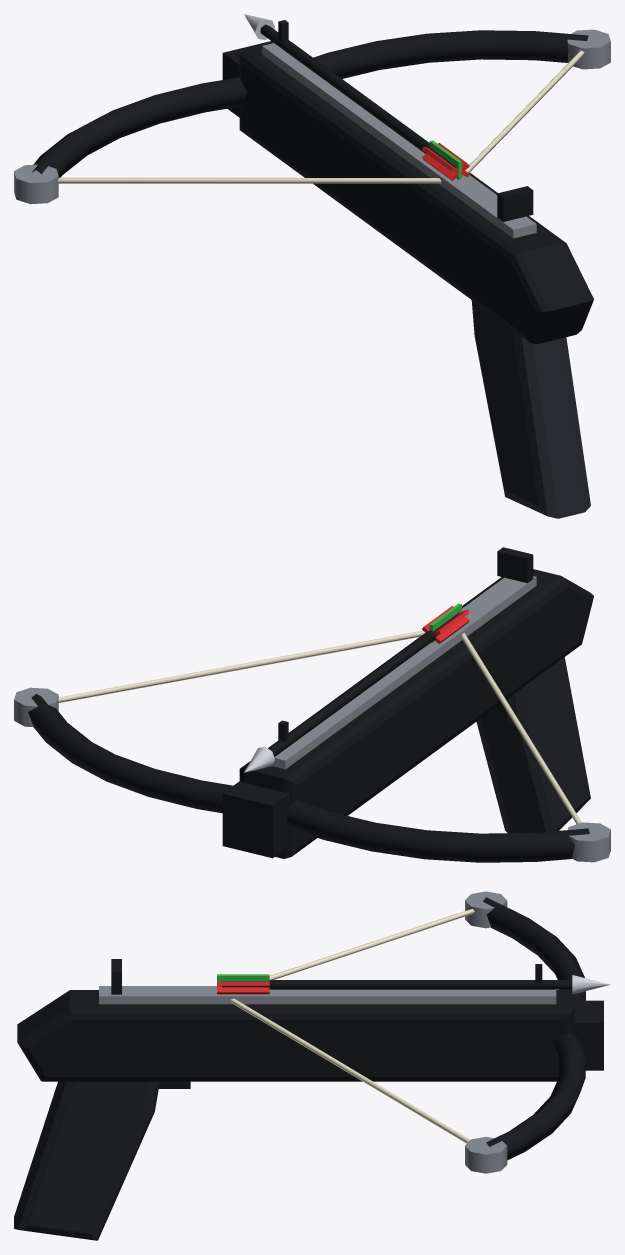
File: mini_arbalete.glb
The picture shows the model from 3 angles, top to bottom: view 1: azimuth 30°, elevation 25°; view 2: azimuth 150°, elevation 25°; view 3: azimuth 270°, elevation 25°; orthographic projection. The views are drawn at different scales.
Visible parts, largest first — view 1: object 2, object 1, object 3, object 5, munition (×2); view 2: object 2, object 1, object 3, object 5, munition (×3); view 3: object 2, object 1, object 3, munition (×2), object 5.
Boxes of the visible parts, <box> form: object 2: <box>32,20,593,344</box>; object 1: <box>471,300,590,518</box>; object 3: <box>14,29,610,238</box>; object 5: <box>57,50,584,183</box>; munition (×2): <box>260,24,469,180</box>; object 2: <box>28,547,593,862</box>; object 1: <box>476,657,590,833</box>; object 3: <box>14,576,610,862</box>; object 5: <box>58,630,581,824</box>; munition (×3): <box>244,606,469,772</box>; object 2: <box>17,897,603,1160</box>; object 1: <box>14,1081,159,1240</box>; object 3: <box>99,891,556,1173</box>; munition (×2): <box>217,980,572,994</box>; object 5: <box>230,909,474,1143</box>.
Size of the model in its own units: 0.354 by 0.1687 by 0.3393.
